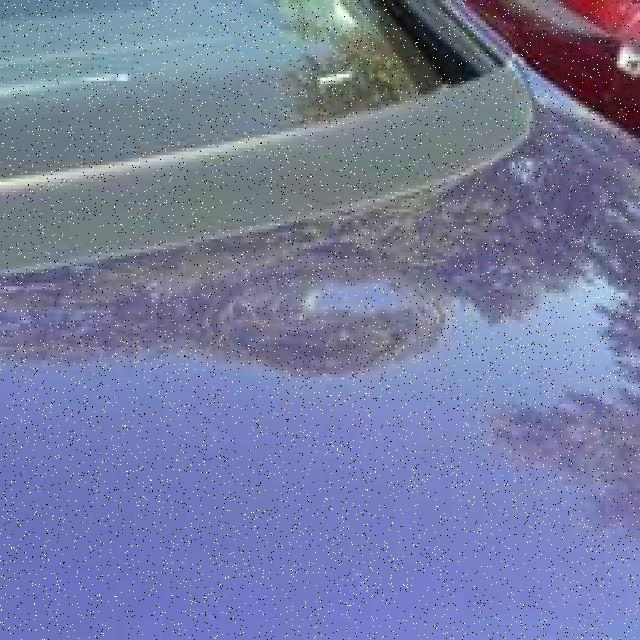bonnet-dent: (9, 169, 576, 637)
